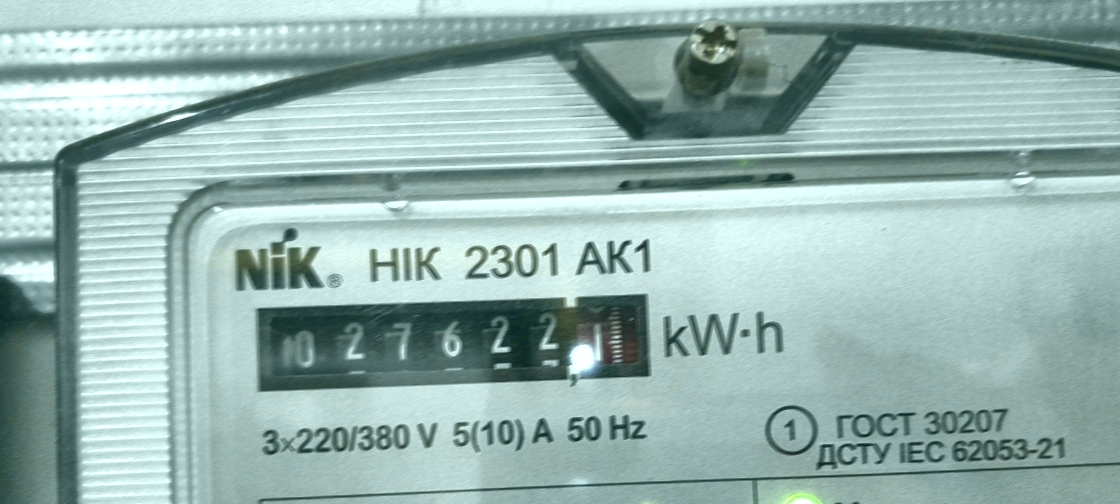0: (291, 327, 317, 370)
1: (589, 320, 606, 364)
2: (486, 313, 512, 355), (342, 320, 366, 363), (536, 310, 560, 352)
6: (439, 318, 462, 359)
7: (390, 320, 414, 364)
screen: (243, 284, 663, 399)
